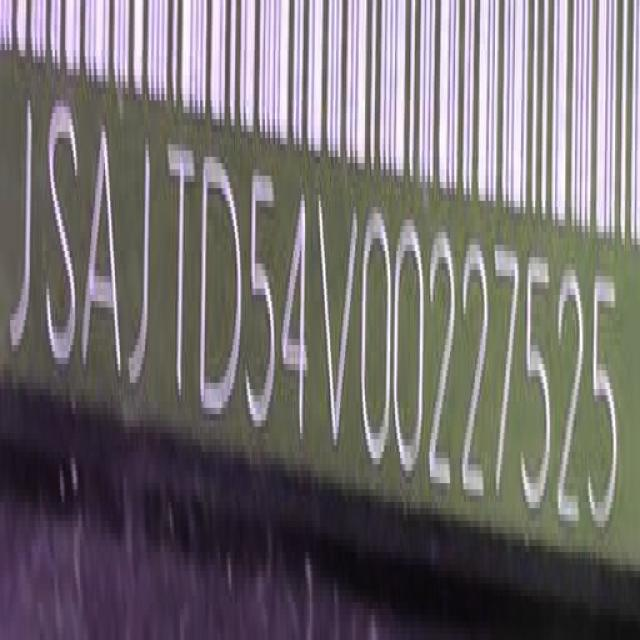0: (393, 208, 424, 492), (361, 197, 392, 479)
2: (556, 255, 586, 538), (460, 227, 490, 503), (428, 220, 456, 500)
4: (282, 177, 313, 457)
5: (247, 161, 279, 444), (588, 253, 619, 536), (524, 240, 554, 524)
7: (495, 237, 521, 518)
A: (86, 101, 121, 396)
D: (202, 138, 242, 432)
J: (122, 121, 157, 409), (9, 97, 34, 356)
S: (45, 89, 79, 379)
T: (168, 129, 195, 421)
V: (320, 183, 358, 472)
